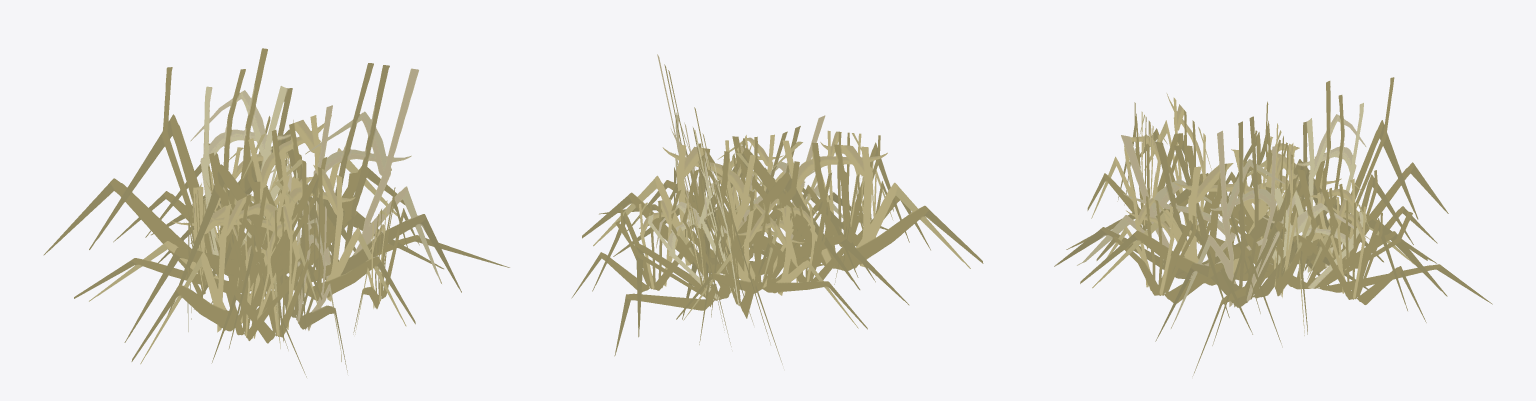
Rendered from PT_Oat_01_stubble.fbx.
The picture shows the model from 3 angles, left to right: view 1: azimuth 30°, elevation 25°; view 2: azimuth 150°, elevation 25°; view 3: azimuth 270°, elevation 25°; orthographic projection. The views are drawn at different scales.
Parts seen in each view (by area): view 1: PT_Oat_01_stubble_LOD0; view 2: PT_Oat_01_stubble_LOD0; view 3: PT_Oat_01_stubble_LOD0.
Part boxes in pixels (x1,y1,x2,y2): PT_Oat_01_stubble_LOD0: [43, 48, 509, 377]; PT_Oat_01_stubble_LOD0: [571, 54, 983, 364]; PT_Oat_01_stubble_LOD0: [1054, 77, 1492, 376].
Size of what is drawn, in the model's own units: 89.08 by 48.4 by 93.49.
